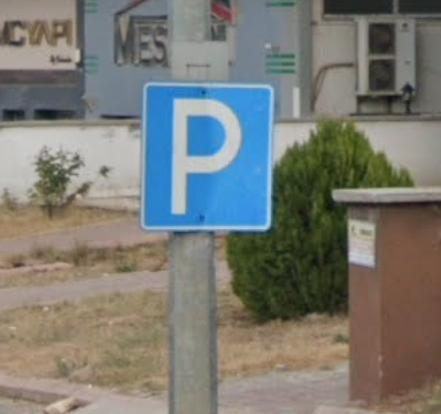park: (148, 89, 268, 226)
